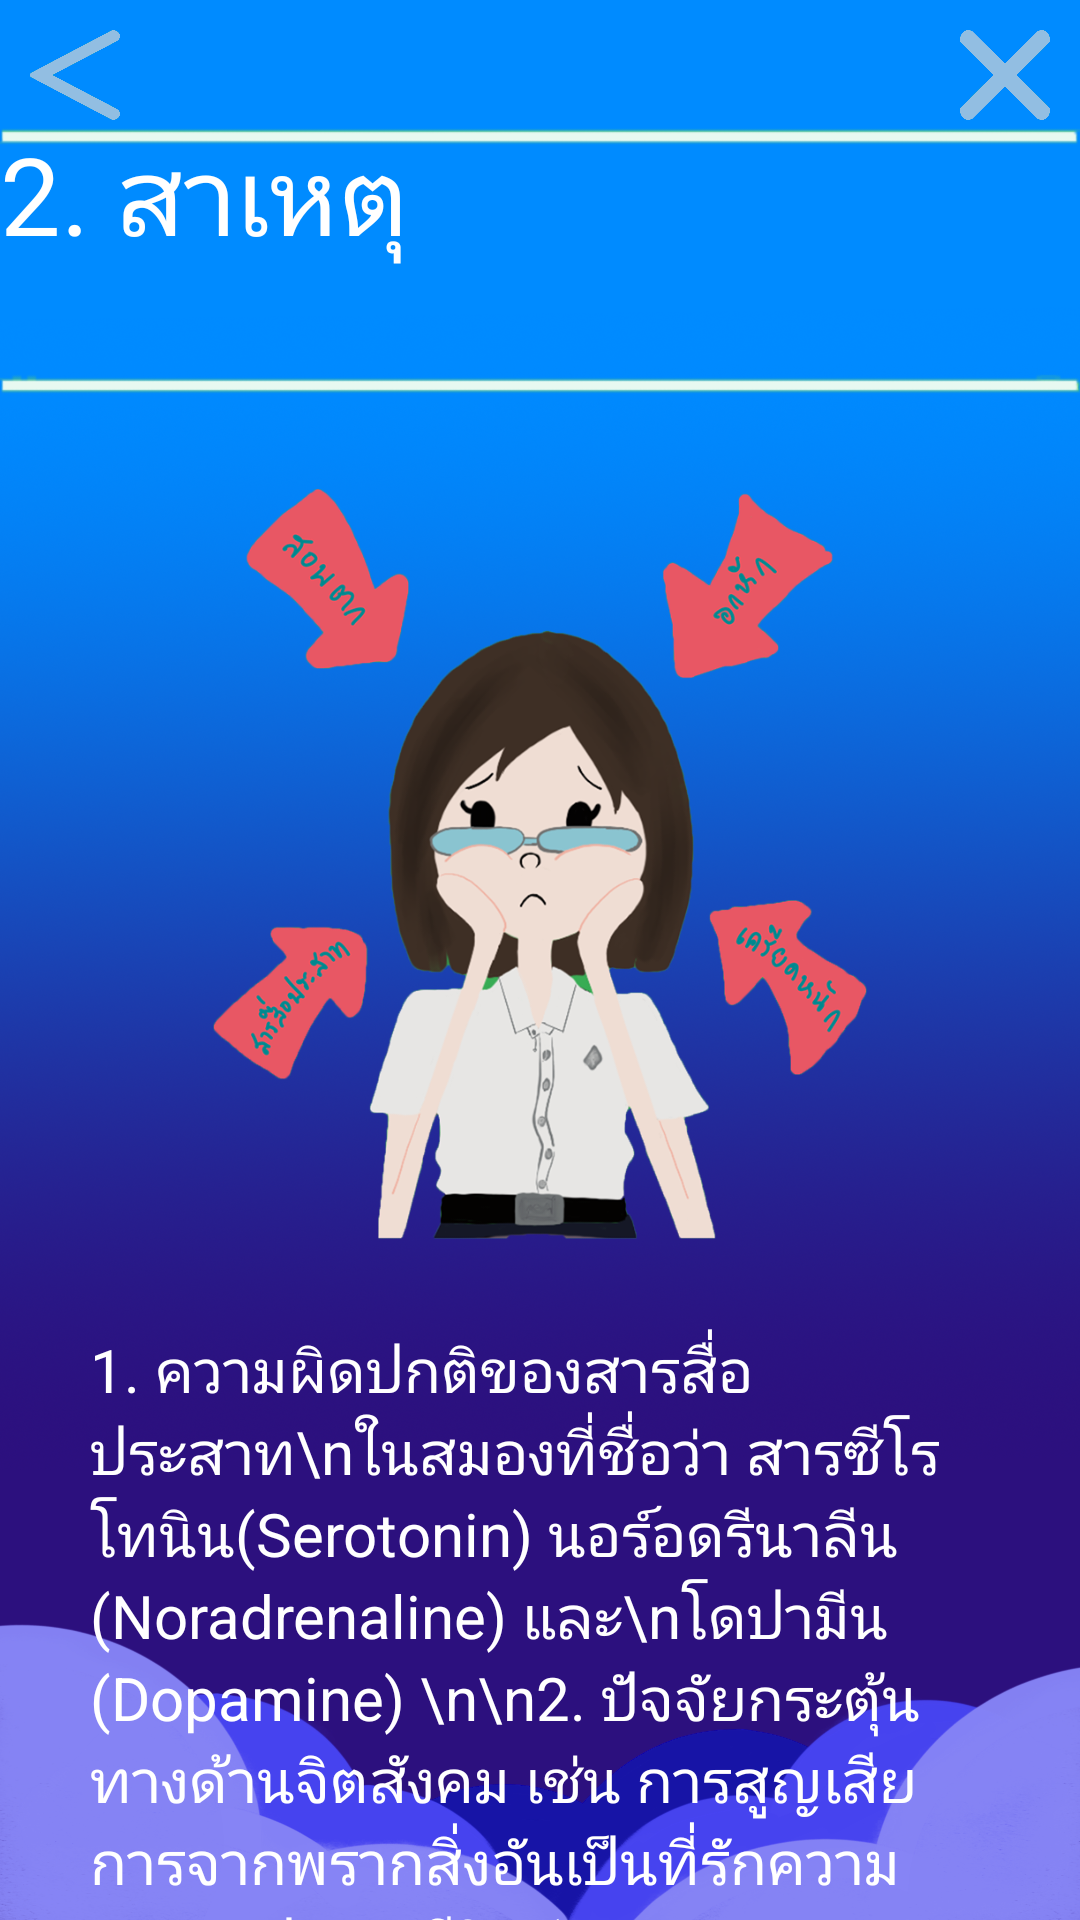

Point at icon controls on the screen. Image size 1080 x 1920, points as [x,y].
backbut: [75,75]
exit: [1005,75]
